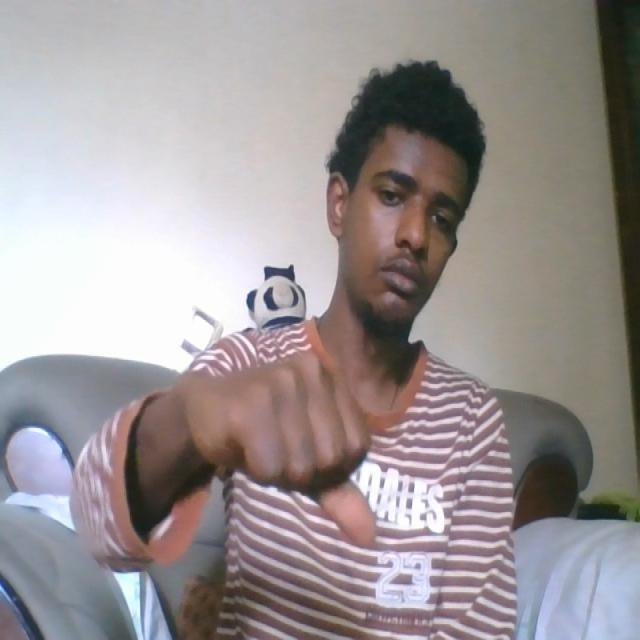injera: (188, 358, 386, 552)
